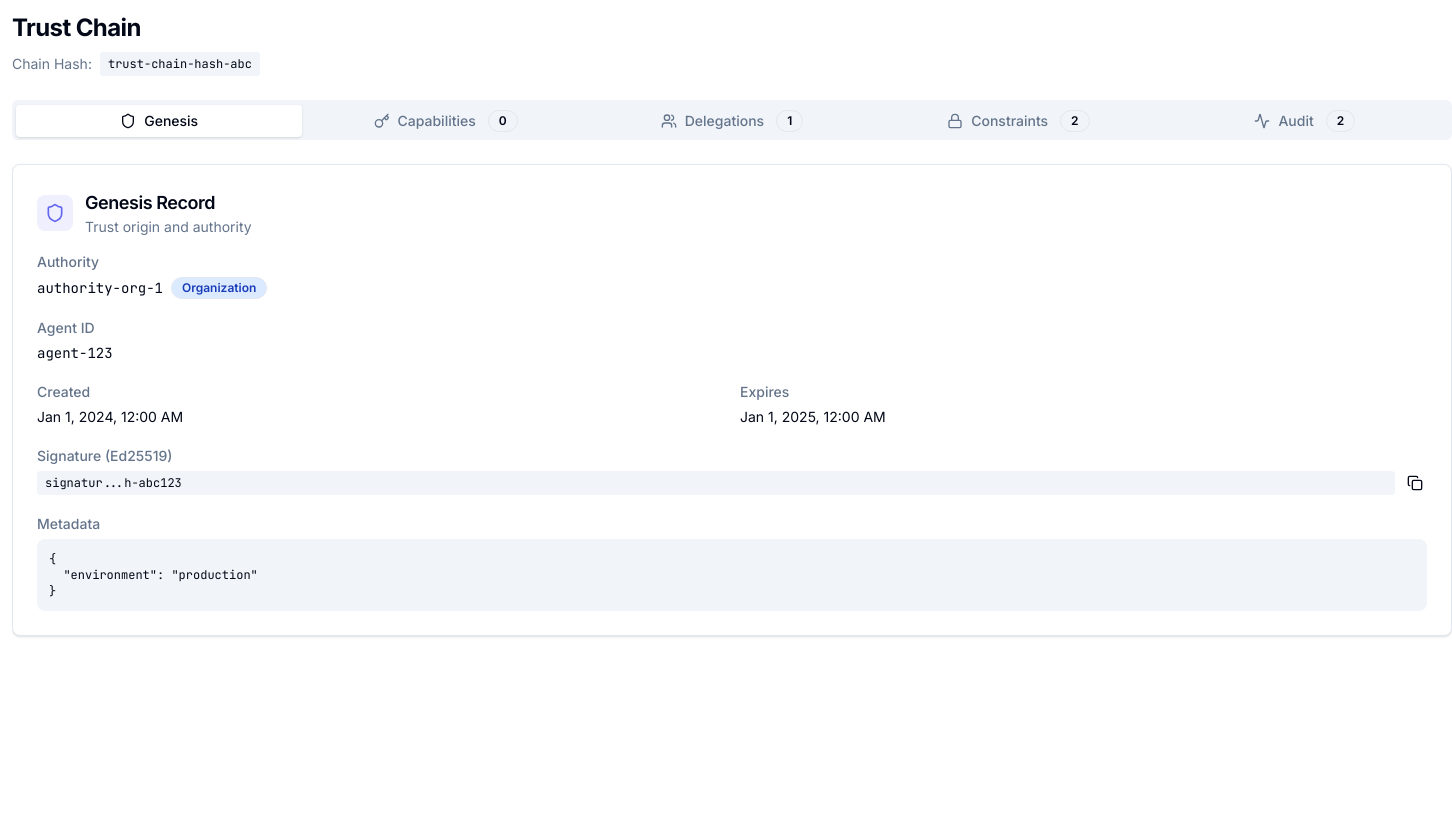
TrustChainViewer › Capabilities tab › should show empty state when no capabilities
The width and height of the screenshot is (1452, 822).
Click the tab "Capabilities 0".
click(446, 121)  # box 302,104 -> 589,138
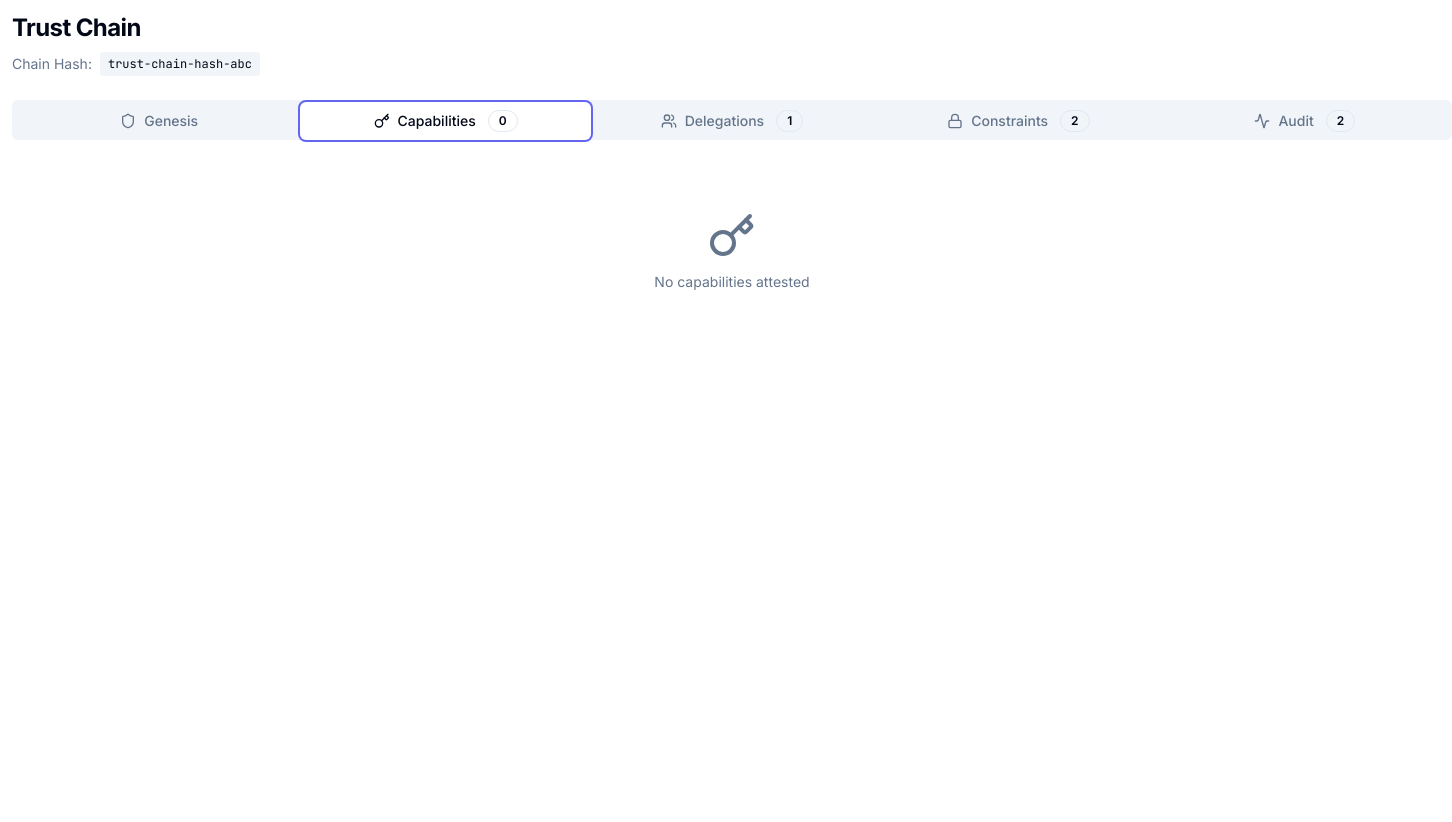
Expected: the text "No capabilities attested" is shown, 654,272 -> 810,292
